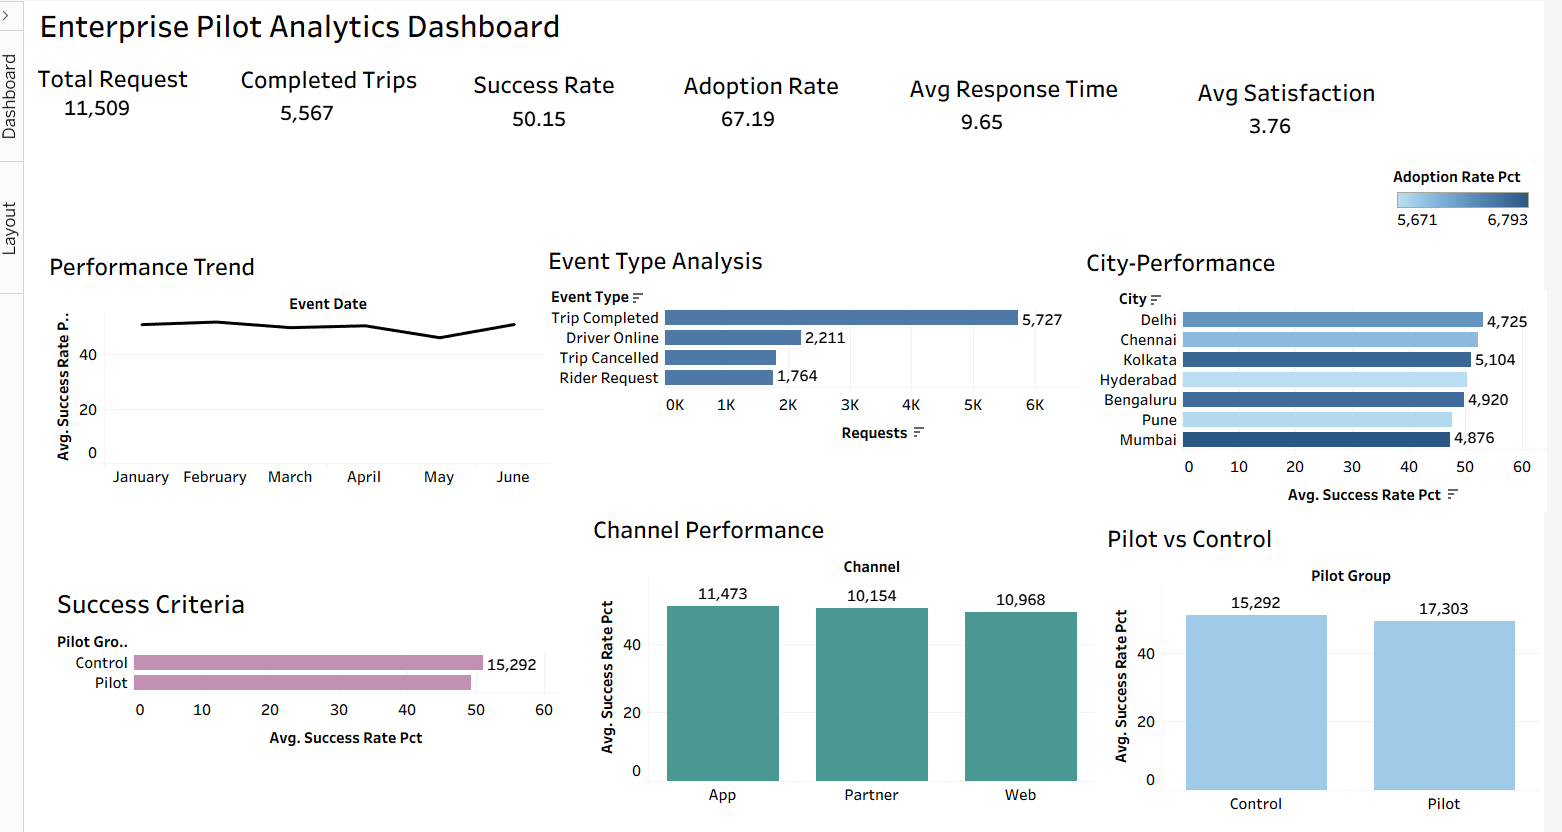

Layout of this report page (visuals, bound fields, positions):
{"tool":"tableau","page":{"name":"Dashboard 1","canvas":[1520,860],"ordinal":0},"visuals":[{"type":"title","box":[8,8,1504,49]},{"type":"text","box":[10,70,158,32]},{"type":"text","box":[213,71,184,32]},{"type":"text","box":[446,76,149,32]},{"type":"text","box":[656,77,163,32]},{"type":"text","box":[882,80,216,32]},{"type":"text","box":[1170,84,186,32]},{"type":"worksheet","title":"Sheet 1","mark":"Automatic","box":[30,102,97,88]},{"type":"worksheet","title":"Sheet 2","mark":"Automatic","box":[234,107,130,77]},{"type":"worksheet","title":"Sheet 3","mark":"Automatic","box":[466,113,137,85]},{"type":"worksheet","title":"Sheet 4","mark":"Automatic","box":[675,113,121,62]},{"type":"worksheet","title":"Sheet 5","mark":"Automatic","box":[923,116,150,50]},{"type":"worksheet","title":"Sheet 6","mark":"Automatic","box":[1211,120,117,62]},{"type":"legend","title":"Sheet 8","param":"[federated.1lvcunk1utgjoy1dqeoqm0dgqj41].[sum:adoption_rate_pct:qk]","box":[1369,174,140,88]},{"type":"worksheet","title":"Sheet 10","mark":"Automatic","rows":["event_type"],"cols":["requests"],"box":[520,248,541,269]},{"type":"worksheet","title":"Sheet 8","mark":"Automatic","rows":["city"],"cols":["success_rate_pct"],"box":[1058,250,465,284]},{"type":"worksheet","title":"Sheet 11","mark":"Automatic","rows":["success_rate_pct"],"cols":["event_date"],"box":[21,254,506,242]},{"type":"worksheet","title":"Sheet 9","mark":"Automatic","rows":["success_rate_pct"],"cols":["channel"],"box":[565,517,506,297]},{"type":"worksheet","title":"Sheet 7","mark":"Automatic","rows":["success_rate_pct"],"cols":["pilot_group"],"box":[1079,526,436,297]},{"type":"worksheet","title":"Sheet 12","mark":"Automatic","rows":["pilot_group"],"cols":["success_rate_pct"],"box":[29,590,506,253]}]}

Visuals, with their boxes on the page's 1520x860 design canvas (x1, y1, x2, y2). These are canvas units, not pixel positions in the 1562x832 screenshot, which may show the page scaled, cropped or inside an application window:
title: [x1=8, y1=8, x2=1512, y2=57]
text: [x1=10, y1=70, x2=168, y2=102]
text: [x1=213, y1=71, x2=397, y2=103]
text: [x1=446, y1=76, x2=595, y2=108]
text: [x1=656, y1=77, x2=819, y2=109]
text: [x1=882, y1=80, x2=1098, y2=112]
text: [x1=1170, y1=84, x2=1356, y2=116]
"Sheet 1" worksheet: [x1=30, y1=102, x2=127, y2=190]
"Sheet 2" worksheet: [x1=234, y1=107, x2=364, y2=184]
"Sheet 3" worksheet: [x1=466, y1=113, x2=603, y2=198]
"Sheet 4" worksheet: [x1=675, y1=113, x2=796, y2=175]
"Sheet 5" worksheet: [x1=923, y1=116, x2=1073, y2=166]
"Sheet 6" worksheet: [x1=1211, y1=120, x2=1328, y2=182]
"Sheet 8" legend: [x1=1369, y1=174, x2=1509, y2=262]
"Sheet 10" worksheet: [x1=520, y1=248, x2=1061, y2=517]
"Sheet 8" worksheet: [x1=1058, y1=250, x2=1523, y2=534]
"Sheet 11" worksheet: [x1=21, y1=254, x2=527, y2=496]
"Sheet 9" worksheet: [x1=565, y1=517, x2=1071, y2=814]
"Sheet 7" worksheet: [x1=1079, y1=526, x2=1515, y2=823]
"Sheet 12" worksheet: [x1=29, y1=590, x2=535, y2=843]
